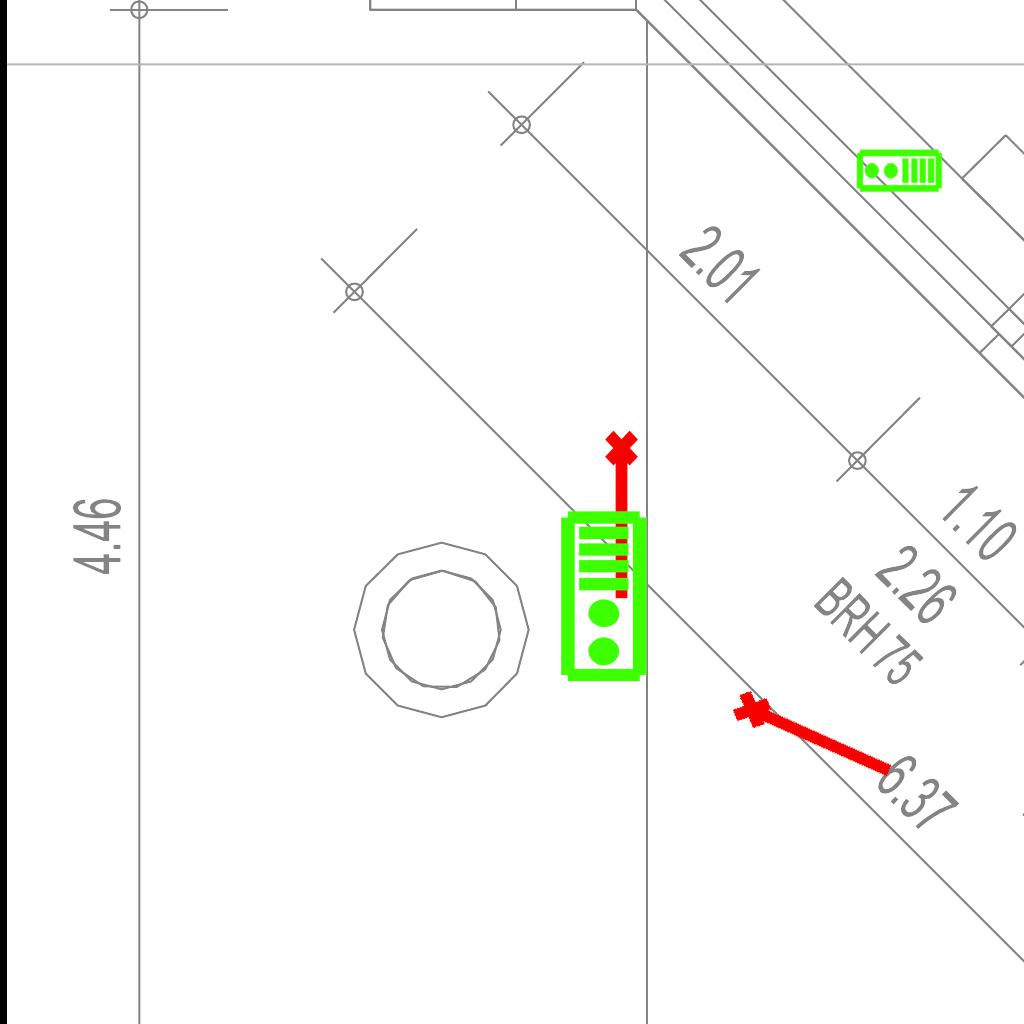ASR_Ansaugoeffnung: (725, 678, 905, 792), (601, 428, 647, 604)
Gegensprechanlage_mit_Video: (558, 509, 653, 685), (855, 148, 943, 195)
